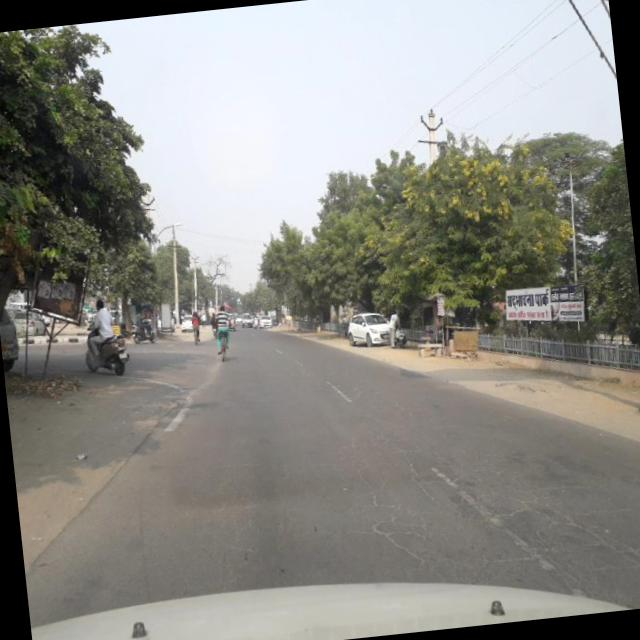crack: (488, 474, 640, 584), (352, 436, 453, 572)
